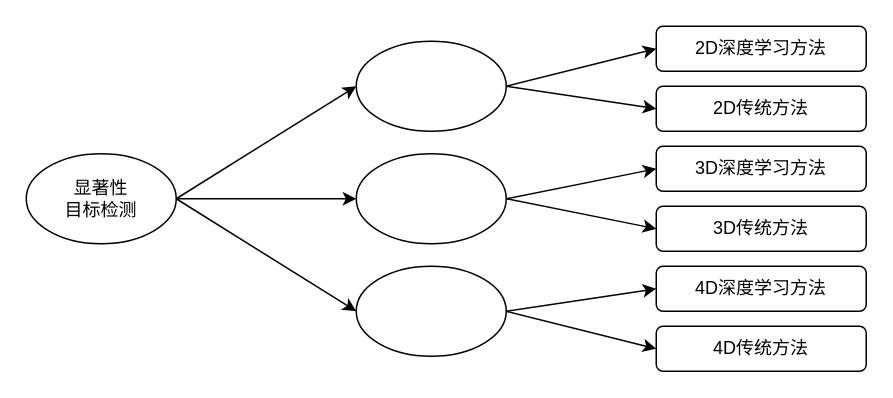
The diagram is 893 pixels wide and 398 high, and some of its shapes have lost their labels. The shapes that lost their labels are listed below. From the top down, each one's centre as x and y in pixels, then its label:
point (430, 85): RGB显著性 目标检测
point (430, 198): RGB-D显著性 目标检测
point (430, 310): 光场显著性 目标检测
